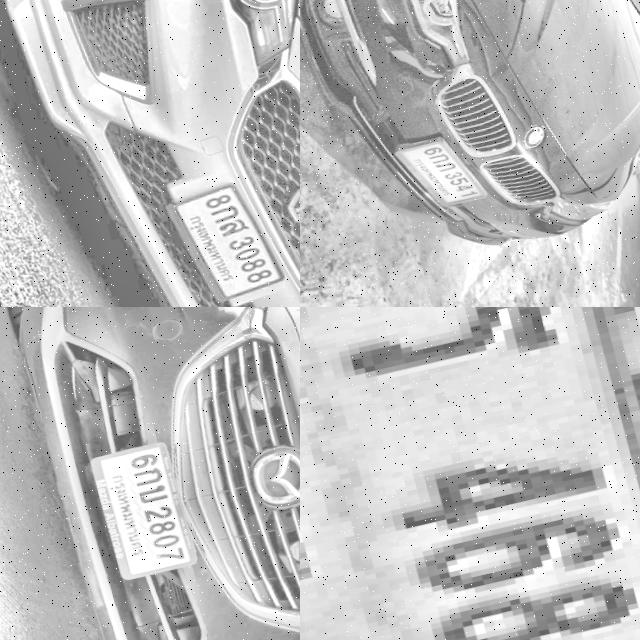license-plate: (300, 307, 640, 640), (80, 434, 202, 584), (167, 172, 286, 306), (390, 128, 487, 216)
